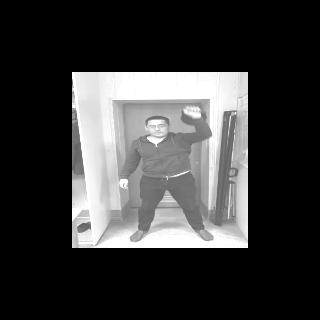kettlebell: (178, 108, 206, 126)
